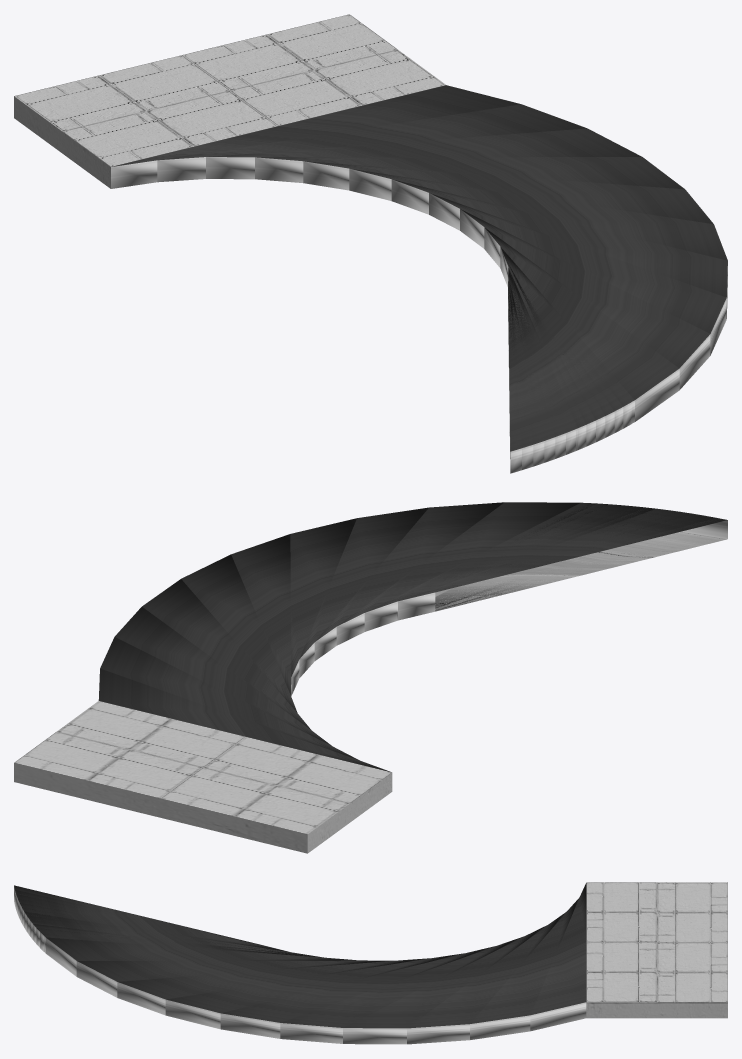
The model's file is curvaelicoidal.fbx.
The picture shows the model from 3 angles, top to bottom: view 1: azimuth 30°, elevation 25°; view 2: azimuth 150°, elevation 25°; view 3: azimuth 270°, elevation 25°; orthographic projection. The views are drawn at different scales.
Parts seen in each view (by area): view 1: Cube.001; view 2: Cube.001; view 3: Cube.001.
Boxes of the visible parts, x1=… form: Cube.001: x1=14, y1=14, x2=727, y2=473; Cube.001: x1=14, y1=502, x2=727, y2=853; Cube.001: x1=14, y1=882, x2=727, y2=1044.
Size of the model in its own units: 975 by 50 by 2016.
